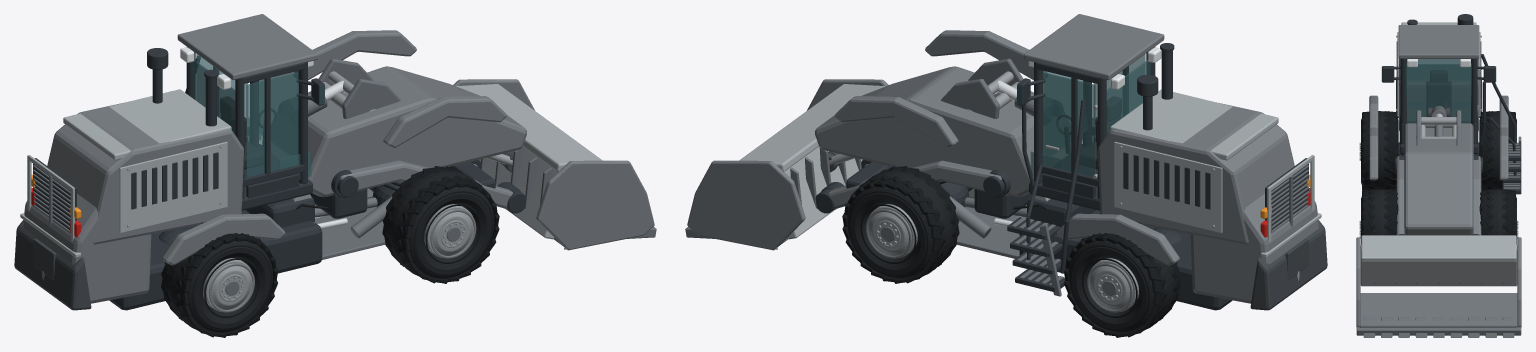
The model's file is cat-950-structural-study.glb.
The picture shows the model from 3 angles, left to right: view 1: azimuth 30°, elevation 25°; view 2: azimuth 150°, elevation 25°; view 3: azimuth 270°, elevation 25°; orthographic projection. The views are drawn at different scales.
Parts seen in each view (by area): view 1: Front_Frame_Main, Engine_Hood_Core, Bucket_Side_Plate_R, Rear_Counterweight_Main, Engine_Service_Panel_R, Cab_Roof, Wheel_FR_Tire_Carcass, Engine_Hood_Top_Panel, Cab_Side_Glass_R, Wheel_RR_Tire_Carcass, Rear_Frame_Main, Bucket_Spill_Guard (+31 smaller); view 2: Front_Frame_Main, Engine_Hood_Core, Bucket_Side_Plate_L, Rear_Counterweight_Main, Engine_Service_Panel_L, Cab_Roof, Wheel_FL_Tire_Carcass, Engine_Hood_Top_Panel, Cab_Side_Glass_L, Wheel_RL_Tire_Carcass, Bucket_Spill_Guard, Rear_Counterweight_Bumper (+33 smaller); view 3: Front_Frame_Main, Bucket_Floor_Sheet, Bucket_Spill_Guard, Bucket_Back_Sheet, Cab_Front_Glass, Cab_Roof, Engine_Hood_Core, Bucket_Cutting_Edge, Cab_Rear_Glass, Wheel_RR_Tire_Carcass, Wheel_RL_Tire_Carcass, Wheel_FL_Tire_Carcass (+47 smaller).
Boxes of the visible parts, x1=… form: Front_Frame_Main: x1=271, y1=66, x2=526, y2=197; Engine_Hood_Core: x1=47, y1=103, x2=243, y2=244; Bucket_Side_Plate_R: x1=536, y1=160, x2=654, y2=250; Rear_Counterweight_Main: x1=23, y1=193, x2=151, y2=303; Engine_Service_Panel_R: x1=119, y1=141, x2=227, y2=233; Cab_Roof: x1=177, y1=14, x2=317, y2=80; Wheel_FR_Tire_Carcass: x1=389, y1=170, x2=494, y2=278; Engine_Hood_Top_Panel: x1=63, y1=89, x2=231, y2=160; Cab_Side_Glass_R: x1=246, y1=72, x2=298, y2=177; Wheel_RR_Tire_Carcass: x1=167, y1=240, x2=273, y2=332; Rear_Frame_Main: x1=109, y1=210, x2=322, y2=310; Bucket_Spill_Guard: x1=456, y1=84, x2=602, y2=171; Front_Frame_Main: x1=815, y1=66, x2=1070, y2=197; Engine_Hood_Core: x1=1098, y1=103, x2=1294, y2=244; Bucket_Side_Plate_L: x1=687, y1=160, x2=805, y2=250; Rear_Counterweight_Main: x1=1190, y1=193, x2=1318, y2=303; Engine_Service_Panel_L: x1=1114, y1=141, x2=1222, y2=233; Cab_Roof: x1=1024, y1=14, x2=1164, y2=80; Wheel_FL_Tire_Carcass: x1=847, y1=170, x2=952, y2=278; Engine_Hood_Top_Panel: x1=1110, y1=89, x2=1278, y2=160; Cab_Side_Glass_L: x1=1043, y1=72, x2=1095, y2=176; Wheel_RL_Tire_Carcass: x1=1068, y1=240, x2=1174, y2=332; Bucket_Spill_Guard: x1=739, y1=84, x2=885, y2=171; Rear_Counterweight_Bumper: x1=1250, y1=220, x2=1327, y2=310; Front_Frame_Main: x1=1404, y1=123, x2=1473, y2=235; Bucket_Floor_Sheet: x1=1360, y1=293, x2=1517, y2=327; Bucket_Spill_Guard: x1=1361, y1=235, x2=1516, y2=262; Bucket_Back_Sheet: x1=1360, y1=245, x2=1517, y2=286; Cab_Front_Glass: x1=1406, y1=63, x2=1471, y2=123; Cab_Roof: x1=1398, y1=25, x2=1479, y2=58; Engine_Hood_Core: x1=1399, y1=58, x2=1478, y2=130; Bucket_Cutting_Edge: x1=1356, y1=327, x2=1521, y2=335; Cab_Rear_Glass: x1=1407, y1=59, x2=1470, y2=79; Wheel_RR_Tire_Carcass: x1=1361, y1=111, x2=1398, y2=189; Wheel_RL_Tire_Carcass: x1=1479, y1=111, x2=1516, y2=189; Wheel_FL_Tire_Carcass: x1=1480, y1=189, x2=1516, y2=244.
Size of the model in its own units: 8.48 by 3.46 by 2.99.
